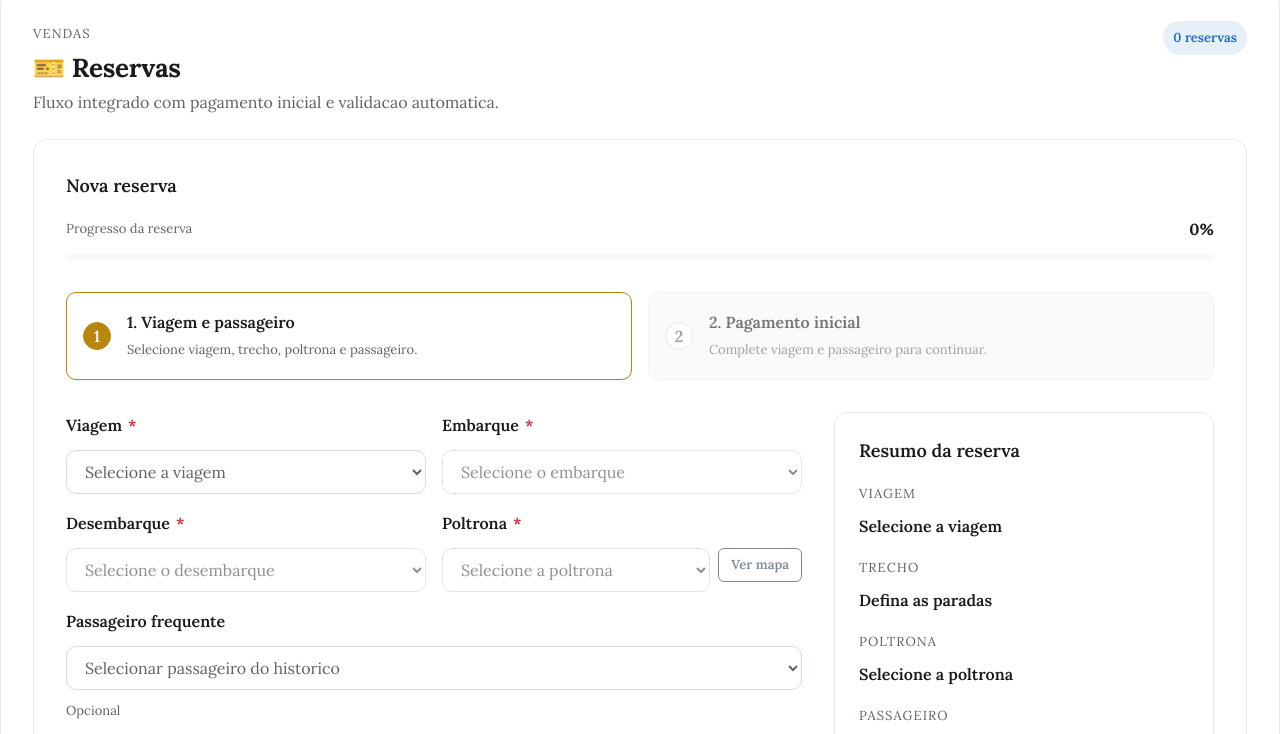
Scenario: Bookings shortcuts › mostra aviso quando o backend retorna FARE_NOT_FOUND
Select "Chapeco -> Lages - 06/02/2026, 10:00:00" in the dropdown labelled "Viagem *": (246,472) [66, 450, 426, 494]
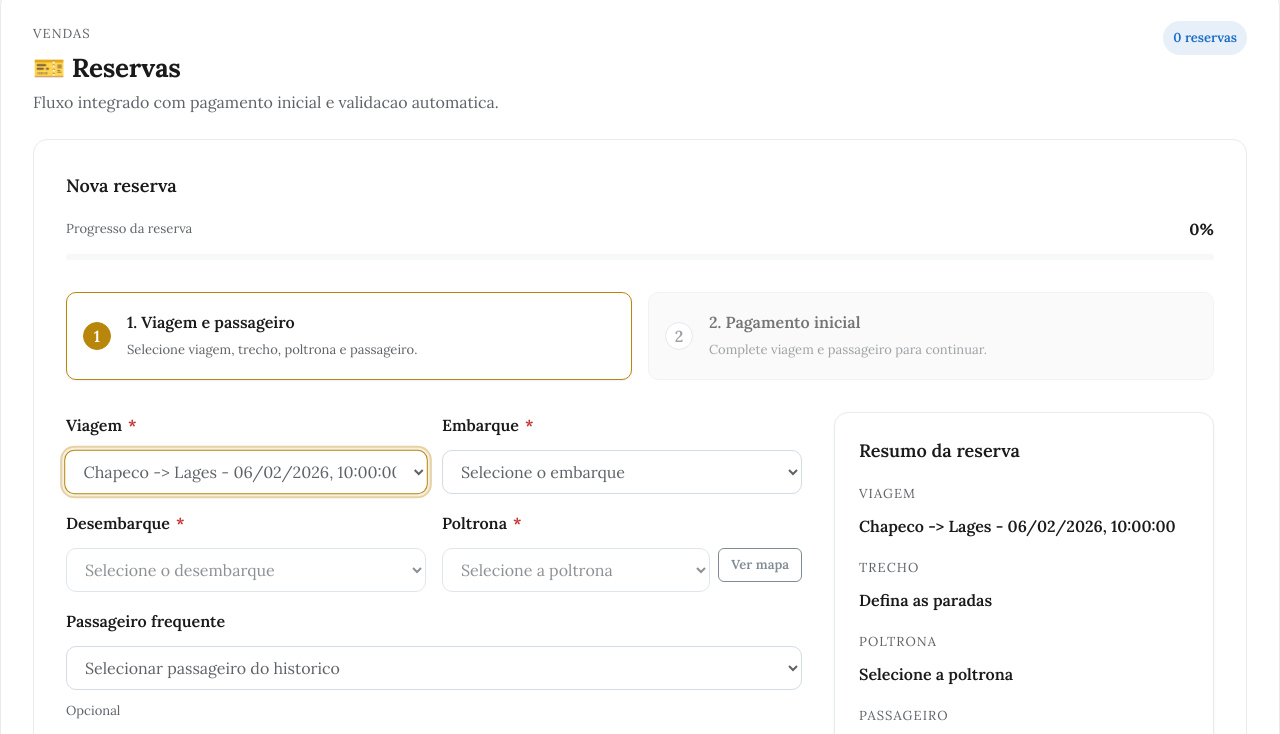
Select "1 - Chapeco" in the dropdown labelled "Embarque *": (622,472) [442, 450, 802, 494]
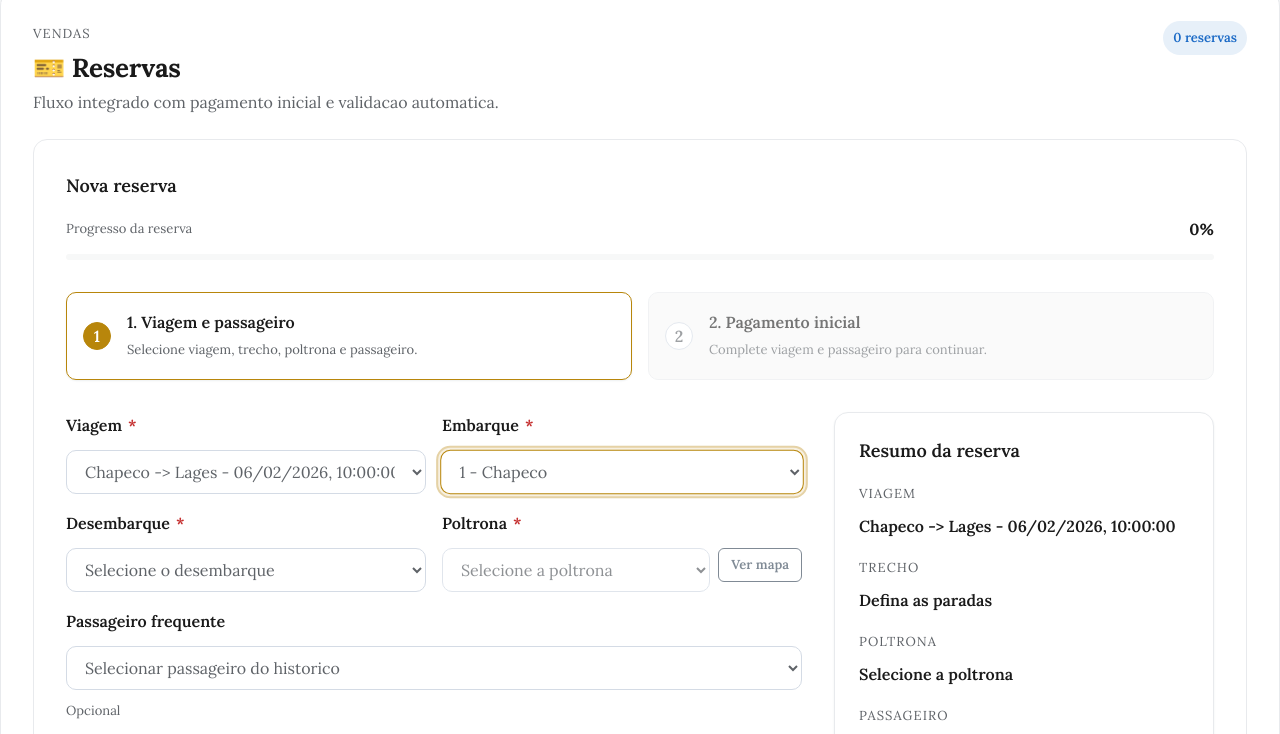
Select "2 - Lages" in the dropdown labelled "Desembarque *": (246,570) [66, 548, 426, 592]
(page scrolled)
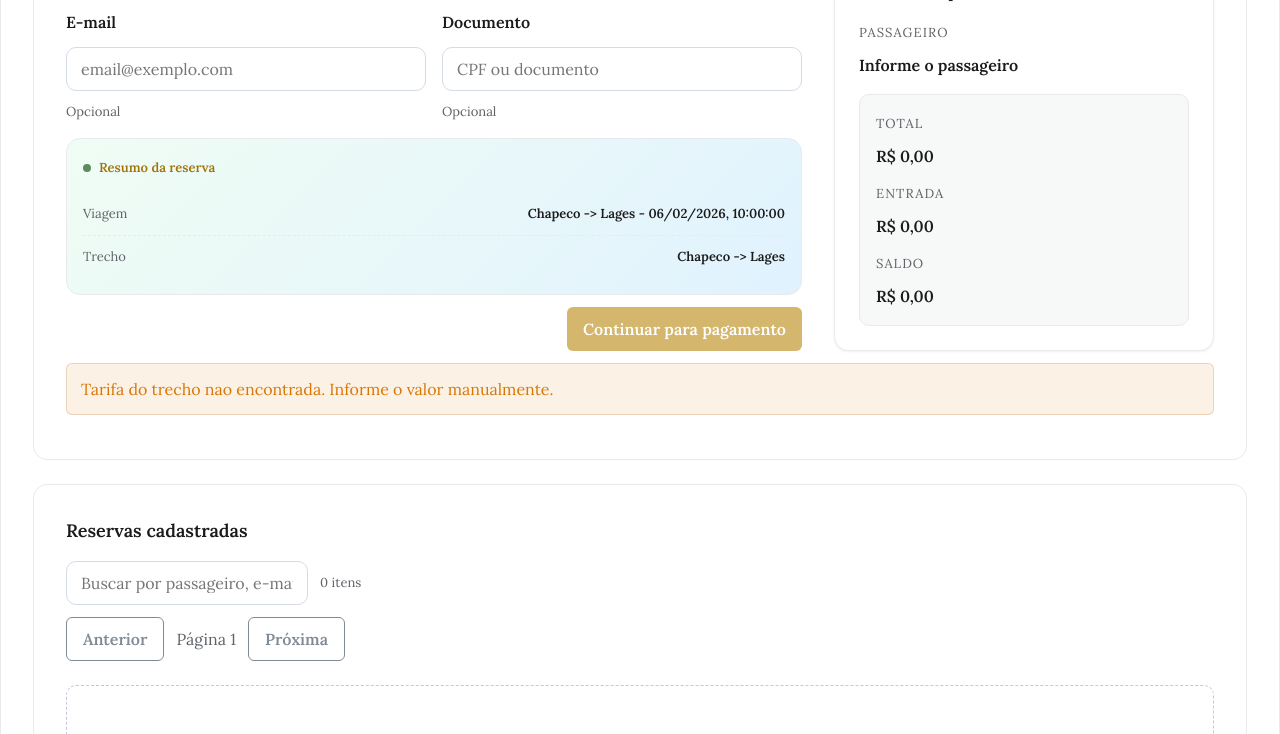
expect the text "Tarifa do trecho nao encontrada" is shown: met, box [81, 379, 553, 399]
